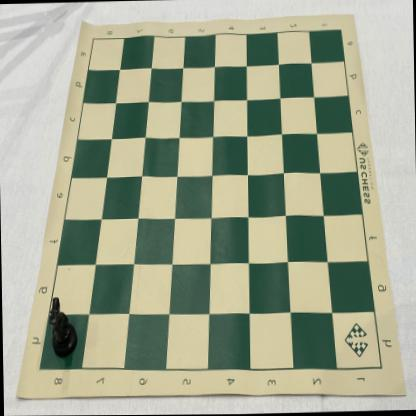black-knight: (48, 297, 78, 358)
